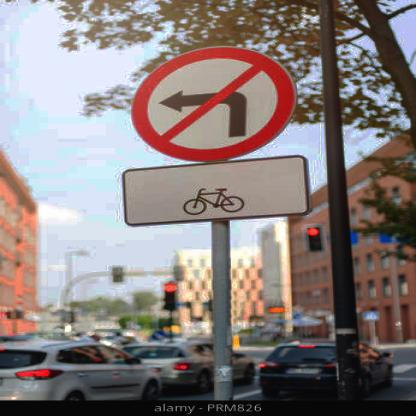No left turn: (133, 41, 299, 160)
